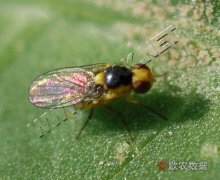liriomyza: (27, 62, 168, 131)
